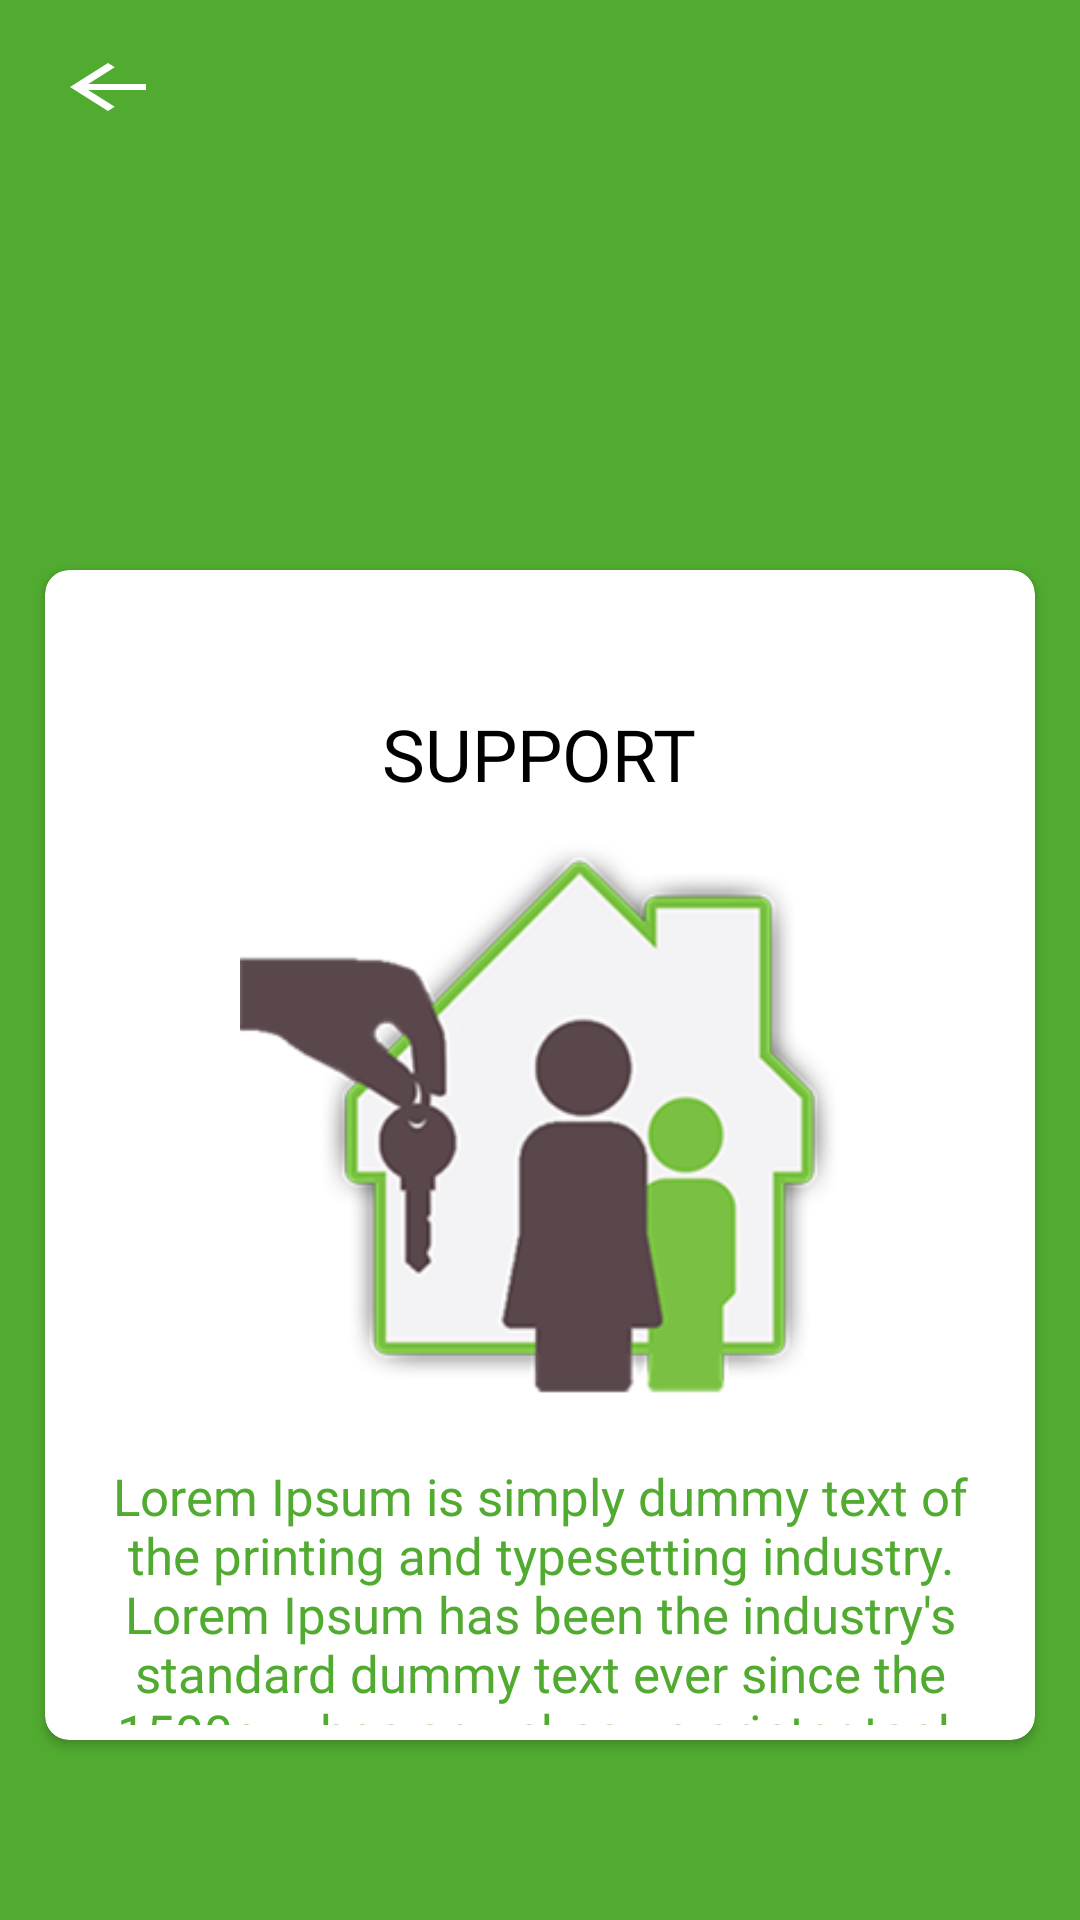

Icon bounding boxes for this 1080 x 1920 phone screenshot, format (x1, y1, x2, y2):
back arrow: (70, 63, 146, 111)
